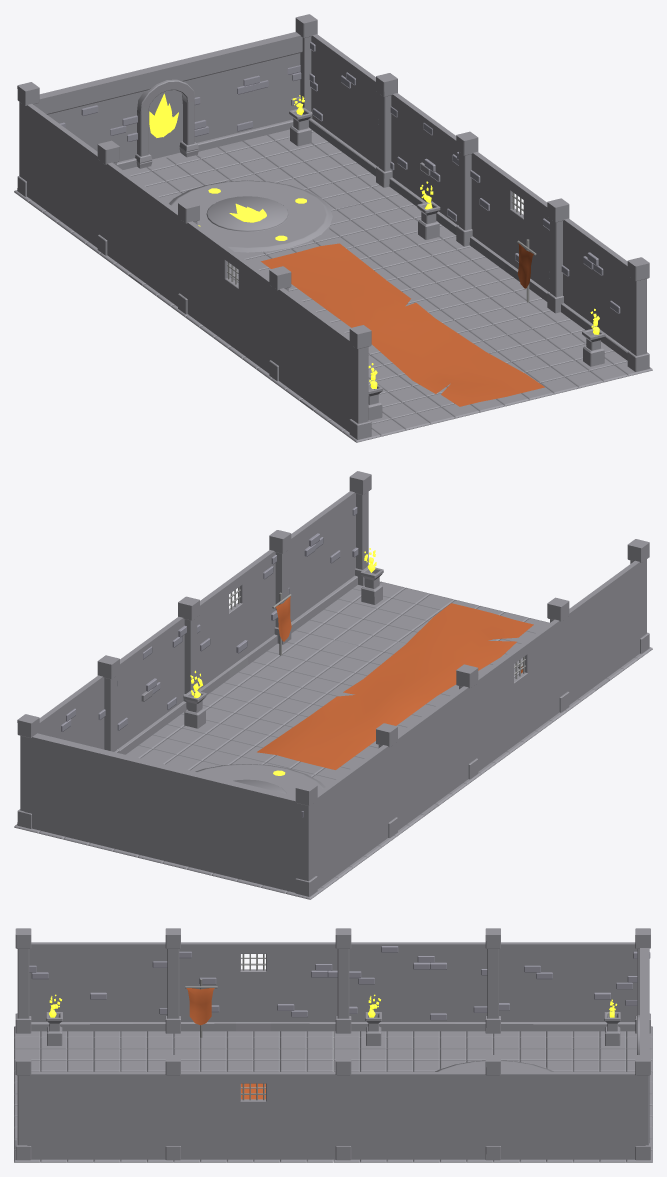
Rendered from Fire_Dungeon.glb.
3 renders of one model, top to bottom at view 1: azimuth 30°, elevation 25°; view 2: azimuth 150°, elevation 25°; view 3: azimuth 270°, elevation 25°, orthographic. The views are drawn at different scales.
Parts seen in each view (by area): view 1: Object_7, Object_6, Object_3, Object_8, Object_10, Object_9, Object_11; view 2: Object_7, Object_6, Object_3, Object_8, Object_9, Object_10; view 3: Object_7, Object_6, Object_10, Object_8, Object_9, Object_4, Object_5, Object_11.
Part boxes in pixels (x1,y1,x2,y2): Object_7: (17,34,651,440); Object_6: (15,14,649,439); Object_3: (261,243,544,406); Object_8: (185,250,652,442); Object_10: (59,42,620,313); Object_9: (14,131,470,316); Object_11: (149,93,599,388); Object_7: (38,491,651,888); Object_6: (15,471,649,897); Object_3: (257,603,533,769); Object_8: (203,581,652,774); Object_9: (14,707,481,899); Object_10: (61,507,358,817); Object_7: (14,942,650,1160); Object_6: (14,928,652,1160); Object_10: (29,946,650,1020); Object_8: (14,1027,333,1162); Object_9: (333,1027,652,1162); Object_4: (186,988,214,1025); Object_5: (185,954,265,1100); Object_11: (49,994,617,1017).
Bounding box in the file's own units: 23.88 × 8.28 × 47.78.
